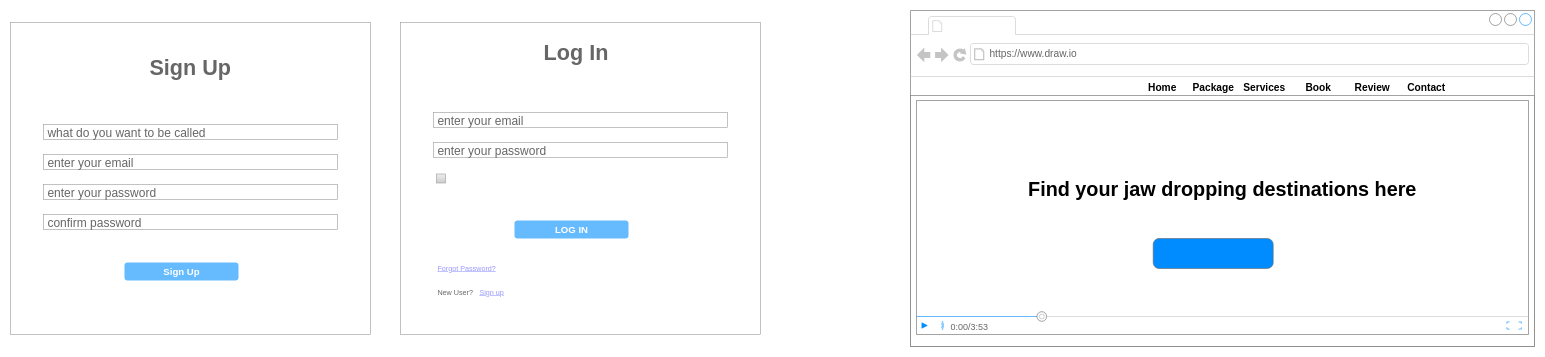
Some shapes in this 1545 by 357 pixel diagram are drawn without their labels. The centre of each missing label's shape, as x and y in pixels:
Discover more: point 1213,253
Page 1: point 979,25
Remember me: point 441,178
